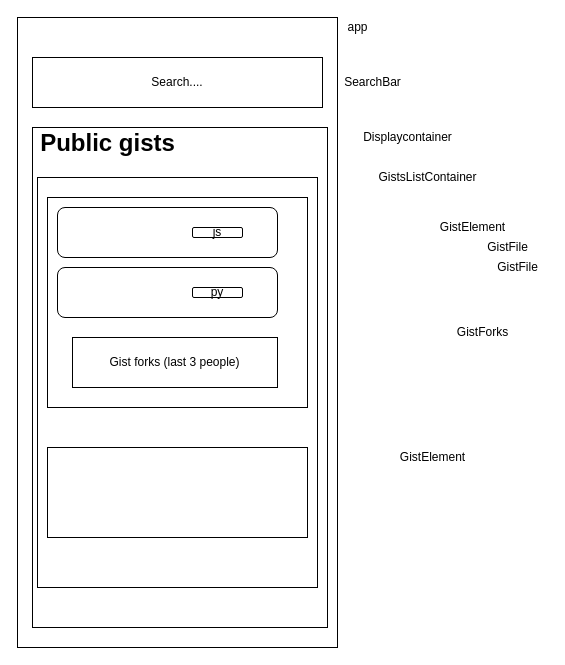
The diagram is 565 pixels wide and 665 high, and some of its shapes have lost their labels. The box of each missing label's shape, as (x1, y1, x2, y2) in pixels:
test.js: (56, 206, 278, 258)
test.py: (56, 266, 278, 318)
